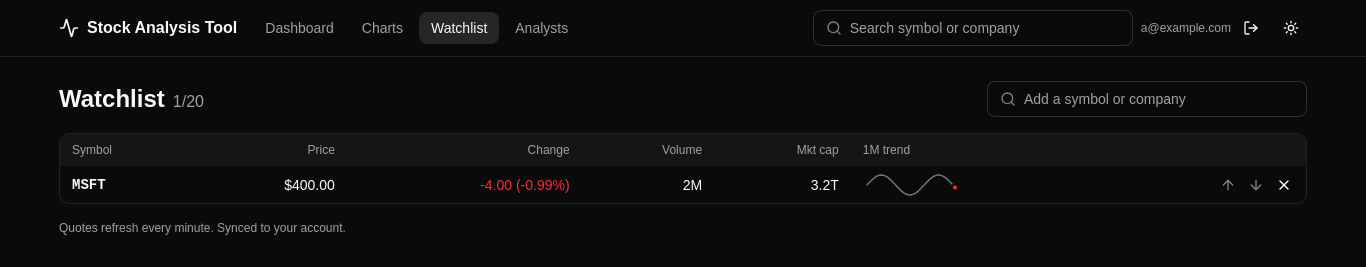
Test case: auth flow › signed-in watchlist page shows the cloud list and sign-out returns to local
Expected: the row with test id "row-MSFT" is shown, [60, 166, 1306, 203]
Expected: the text "Quotes refresh every minute. Synced to your account." is shown, [59, 221, 346, 235]
Click the button named "Remove MSFT".
click(1284, 184)  # box [1270, 170, 1298, 198]
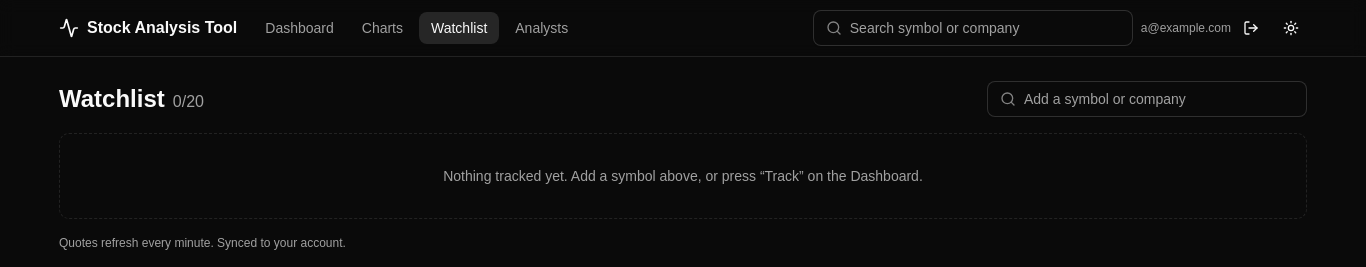
Click the button named "sign out".
click(1251, 28)  # box [1235, 12, 1267, 44]
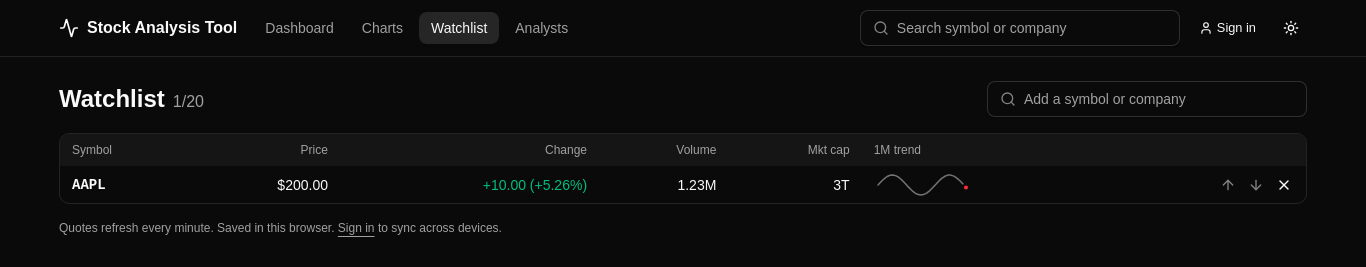
Now the row with test id "row-AAPL" is shown, box [60, 166, 1306, 203]
Now the text "Saved in this browser" is shown, box [217, 221, 334, 235]
